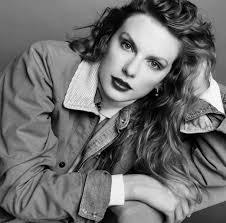scarf-kerchief: (87, 0, 202, 111)
